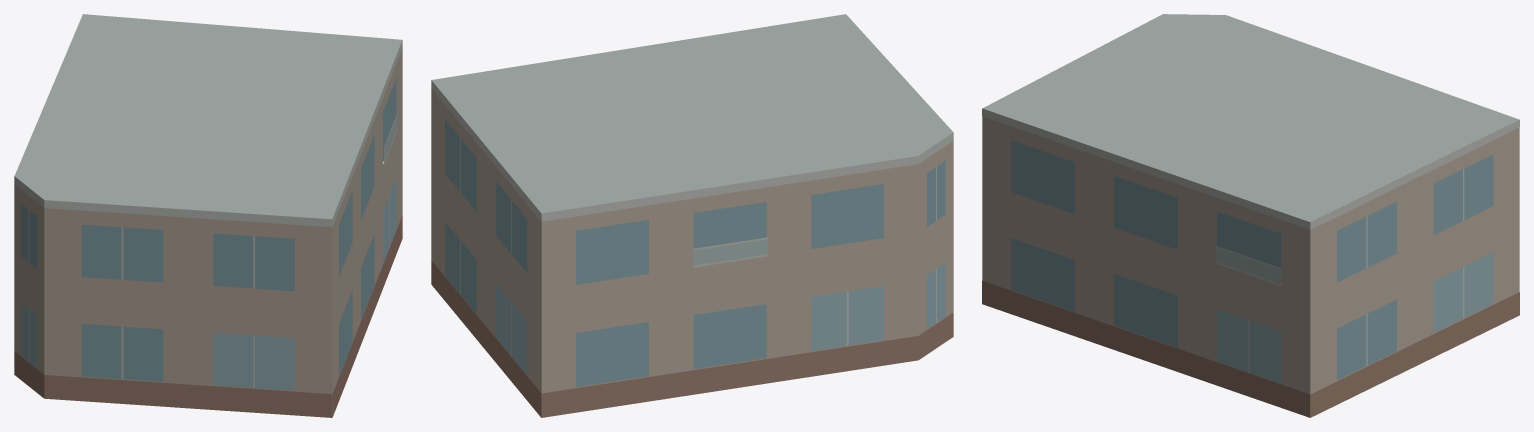
File: survey-upis-32707066.glb
3 renders of one model, left to right at view 1: azimuth 30°, elevation 25°; view 2: azimuth 150°, elevation 25°; view 3: azimuth 270°, elevation 25°, orthographic. The views are drawn at different scales.
Parts seen in each view (by area): view 1: survey-upis-32707066.tmp; view 2: survey-upis-32707066.tmp; view 3: survey-upis-32707066.tmp.
Boxes of the visible parts, bbox=[...] form: survey-upis-32707066.tmp: bbox=[14, 14, 402, 417]; survey-upis-32707066.tmp: bbox=[431, 14, 953, 417]; survey-upis-32707066.tmp: bbox=[982, 14, 1519, 417].
Size of the model in its own units: 13.93 by 6.1 by 15.2.
